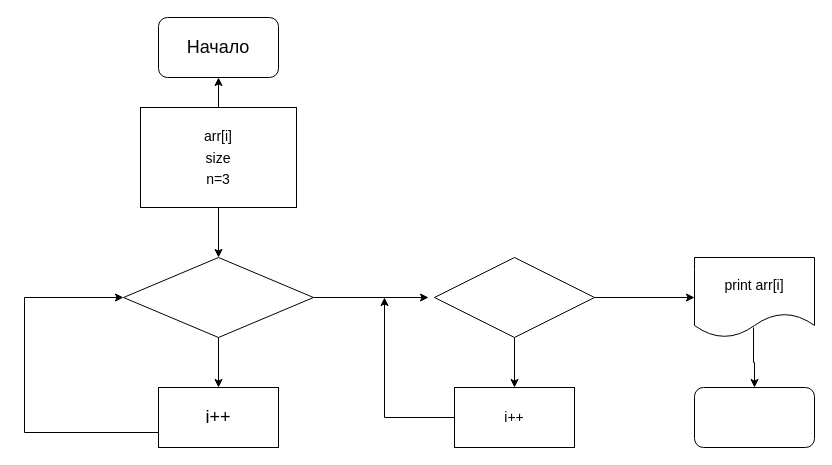
Image size: 832x465. Some labels were removed from this diagram. The centre of each missing label's shape, as x and y in pixels:
"arr[i] <= n" goes at [514,297].
"i=0, i<size" goes at [218,297].
"конец" goes at [754,417].
